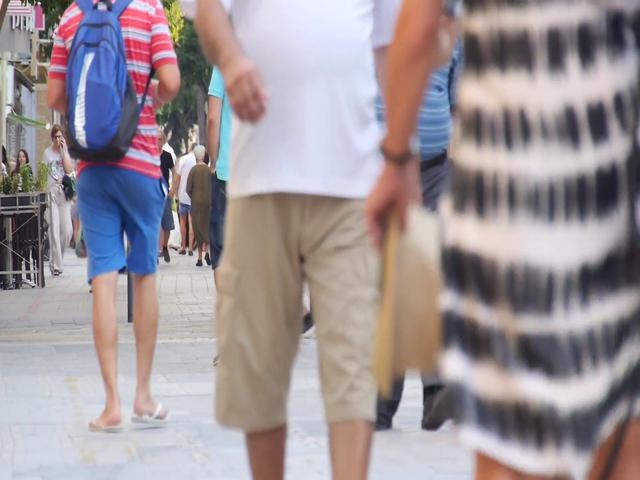shoe: (422, 386, 450, 430), (131, 401, 173, 422), (89, 412, 123, 432)
